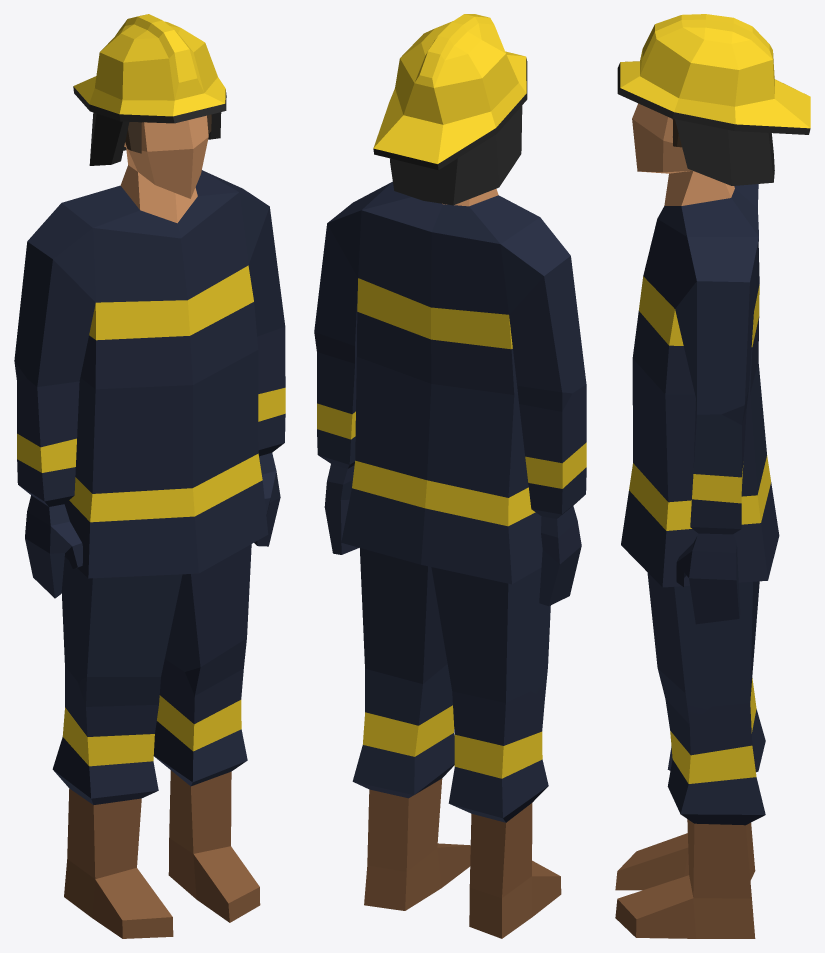
Rendered from people_man-fire.fbx.
3 renders of one model, left to right at view 1: azimuth 30°, elevation 25°; view 2: azimuth 150°, elevation 25°; view 3: azimuth 270°, elevation 25°, orthographic.
Visible parts, largest first — view 1: people_man_fire; view 2: people_man_fire; view 3: people_man_fire.
Boxes of the visible parts, bbox=[...] form: people_man_fire: bbox=[14, 14, 285, 938]; people_man_fire: bbox=[314, 14, 586, 938]; people_man_fire: bbox=[615, 14, 810, 938].
Bounding box in the file's own units: 59.15 × 200 × 39.78.
